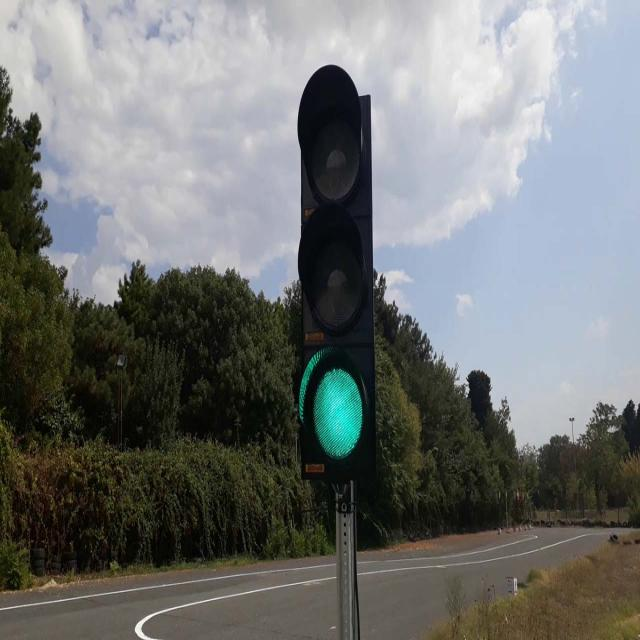yesil: (297, 67, 375, 478)
